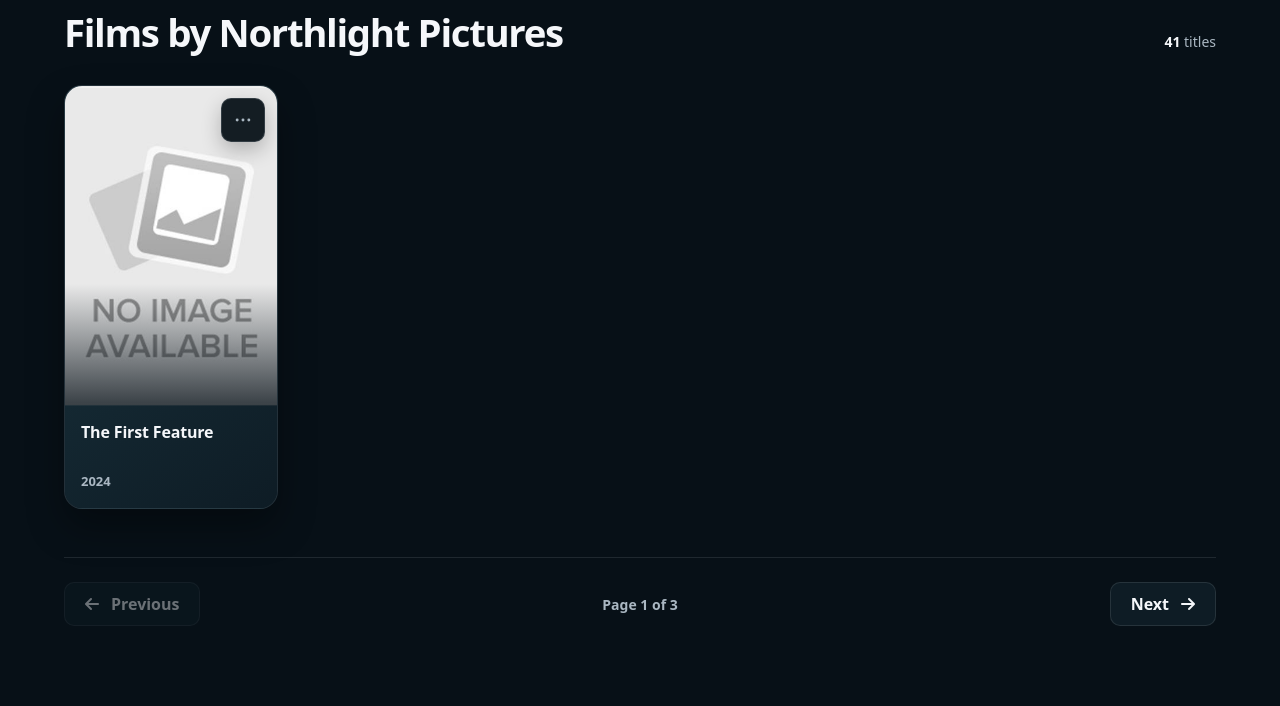
Test: Company page › requests the next server page from pagination
(page scrolled)
Click the button "Next": (1163, 604) x1=1110 y1=582 x2=1216 y2=626
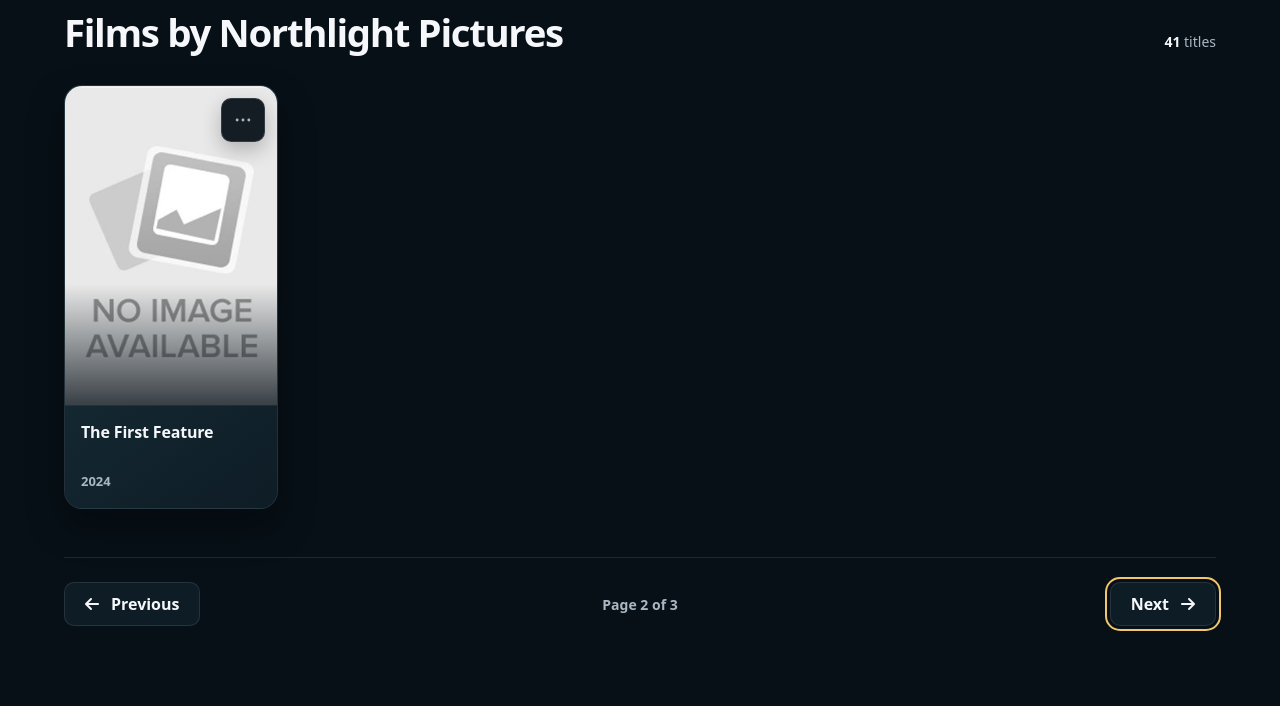
Now the text "Page 2 of 3" is shown, box x1=602 y1=593 x2=678 y2=616
